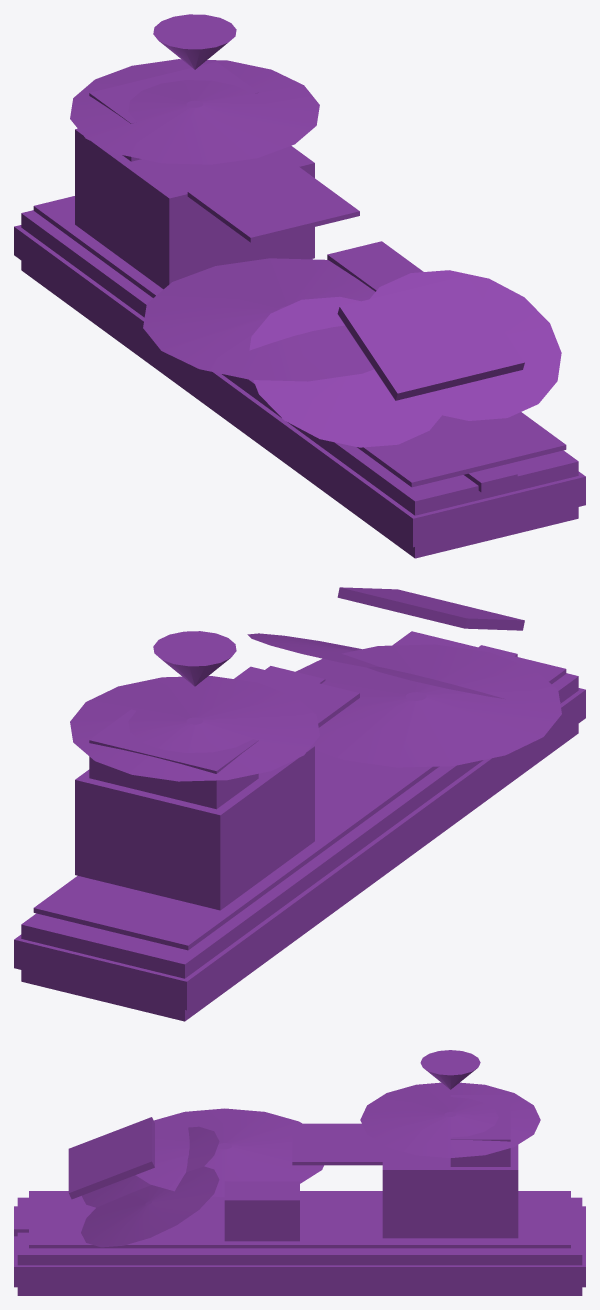
The model's file is research.glb.
3 views of the same model, one above another, from view 1: azimuth 30°, elevation 25°; view 2: azimuth 150°, elevation 25°; view 3: azimuth 270°, elevation 25° (orthographic). The views are drawn at different scales.
Parts seen in each view (by area): view 1: crane, superstructure, radarMast, iceBelt, hull, aFrame, aFrameSupport1, mainDeck, aFrameSupport2, heliDeck, radarDish, bridge (+2 smaller); view 2: superstructure, crane, hull, radarMast, iceBelt, mainDeck, bridge, aFrame, radarDish, heliDeck, aFrameSupport2, aFrameSupport1; view 3: hull, mainDeck, iceBelt, superstructure, radarMast, crane, aFrameSupport2, laboratory, aFrame, heliDeck, bridge, aFrameSupport1 (+1 smaller).
Boxes of the visible parts, left/top/right/bottom form: crane: left=143, top=258, right=375, bottom=381; superstructure: left=75, top=128, right=314, bottom=289; radarMast: left=70, top=59, right=319, bottom=164; iceBelt: left=14, top=225, right=585, bottom=547; hull: left=21, top=210, right=578, bottom=558; aFrame: left=337, top=275, right=524, bottom=400; aFrameSupport1: left=249, top=296, right=441, bottom=447; mainDeck: left=33, top=196, right=566, bottom=487; aFrameSupport2: left=370, top=270, right=561, bottom=420; heliDeck: left=187, top=165, right=359, bottom=242; radarDish: left=153, top=14, right=236, bottom=69; bridge: left=89, top=62, right=258, bottom=161; superstructure: left=75, top=745, right=314, bottom=910; crane: left=295, top=644, right=561, bottom=767; hull: left=21, top=673, right=578, bottom=1021; radarMast: left=70, top=676, right=319, bottom=781; iceBelt: left=14, top=688, right=585, bottom=1010; mainDeck: left=33, top=631, right=566, bottom=950; bridge: left=89, top=709, right=258, bottom=809; aFrame: left=337, top=587, right=524, bottom=630; radarDish: left=153, top=631, right=236, bottom=686; heliDeck: left=234, top=666, right=359, bottom=727; aFrameSupport2: left=247, top=633, right=378, bottom=667; aFrameSupport1: left=367, top=667, right=560, bottom=703; hull: left=17, top=1197, right=582, bottom=1295; mainDeck: left=29, top=1191, right=570, bottom=1248; iceBelt: left=14, top=1206, right=585, bottom=1287; superstructure: left=382, top=1145, right=518, bottom=1238; radarMast: left=360, top=1082, right=540, bottom=1158; crane: left=135, top=1108, right=323, bottom=1197; aFrameSupport2: left=81, top=1166, right=219, bottom=1247; laboratory: left=224, top=1181, right=299, bottom=1241; aFrame: left=68, top=1117, right=154, bottom=1199; heliDeck: left=292, top=1123, right=382, bottom=1165; bridge: left=450, top=1095, right=510, bottom=1166; aFrameSupport1: left=82, top=1126, right=219, bottom=1207.
Bounding box in the file's own units: 37 × 31.01 × 76.
